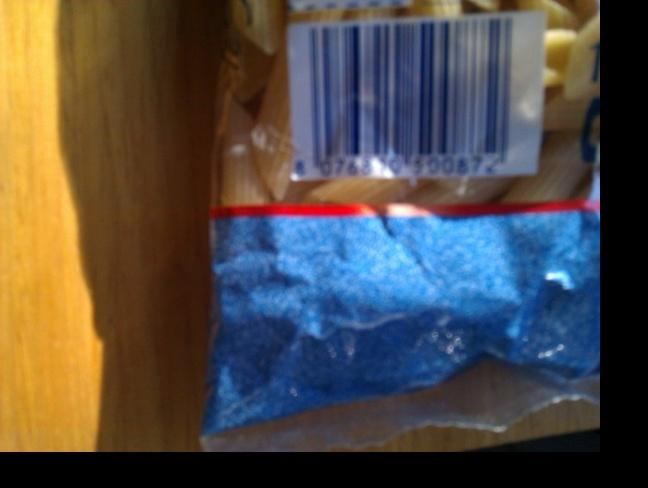Barcode: (282, 11, 548, 175)
